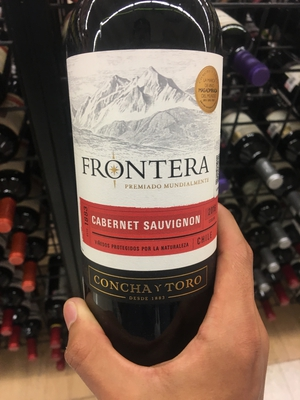frontera cabernet sauvignon: (58, 15, 243, 387)
